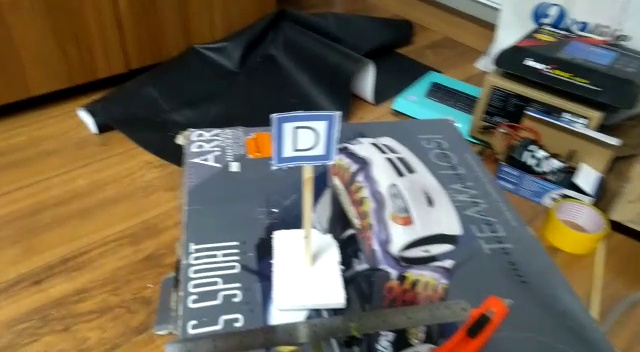durak: (270, 114, 334, 159)
